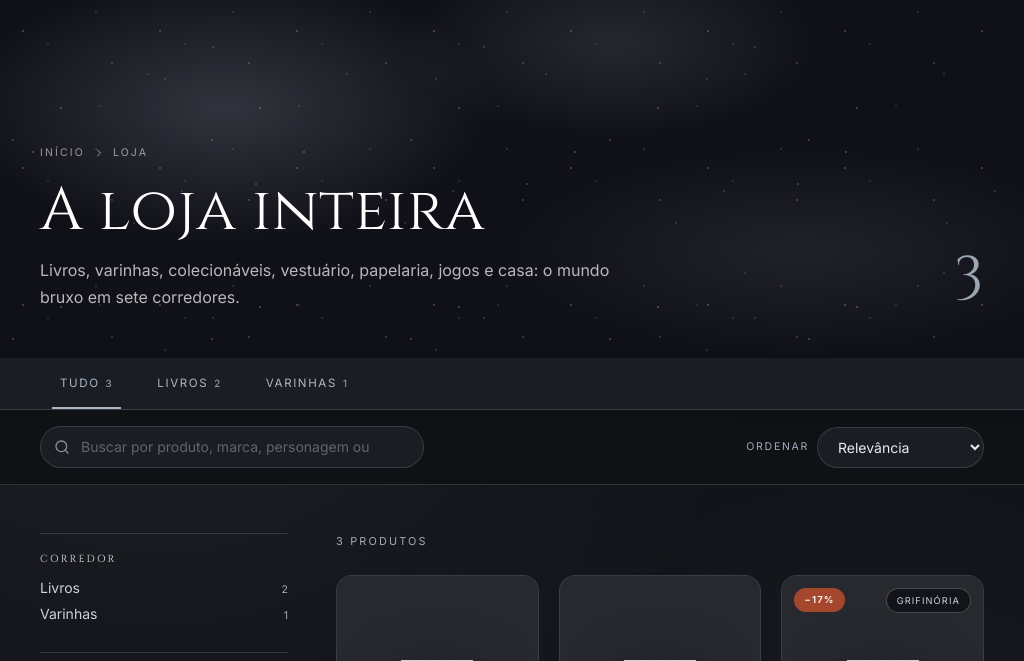
it: Catalog page › sends the department filter to the API and marks it as a removable chip
Click the button "Varinhas1".
click(307, 384)  # box [246,358,368,409]
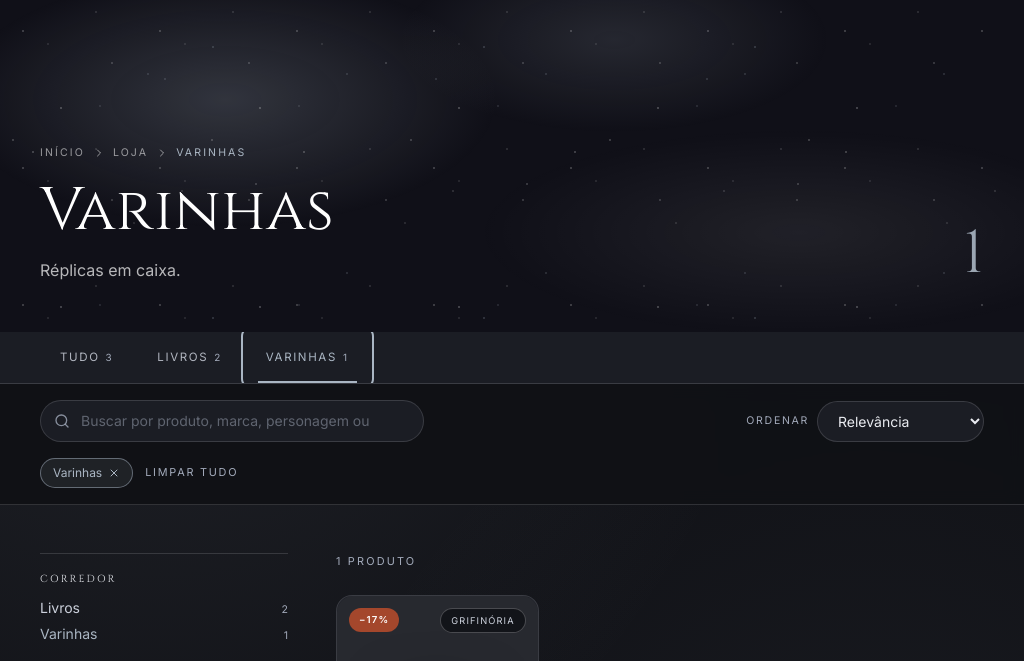
Check: the text "1 produto" is shown, box [336,554,416,568]
Click the button "Varinhas 1".
click(164, 634)  # box [40,624,288,644]
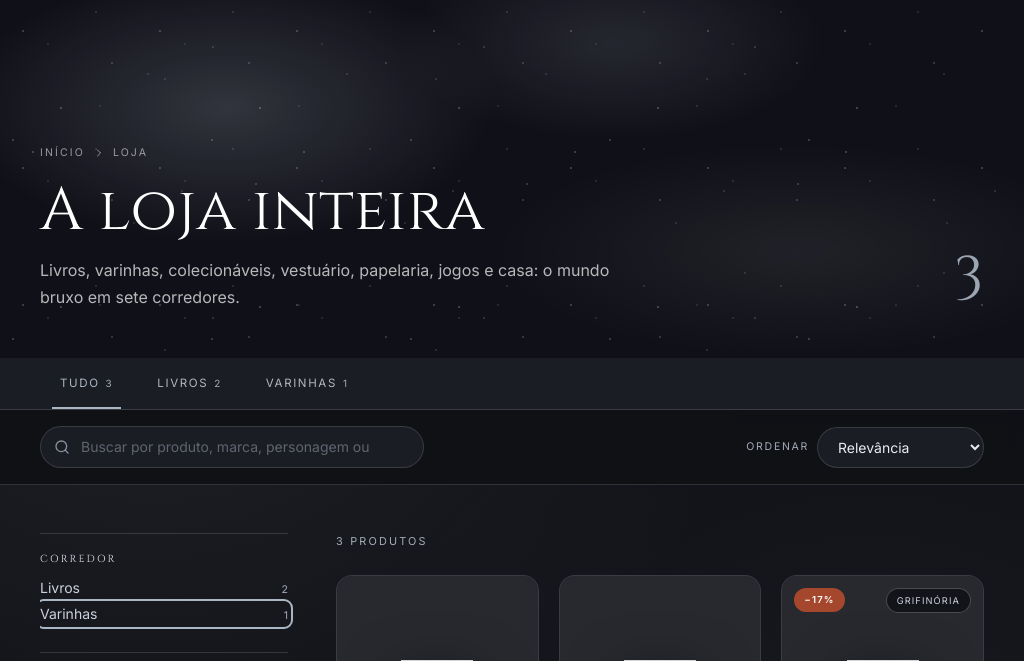
Check: the text "3 produtos" is shown, box [336,534,428,548]
